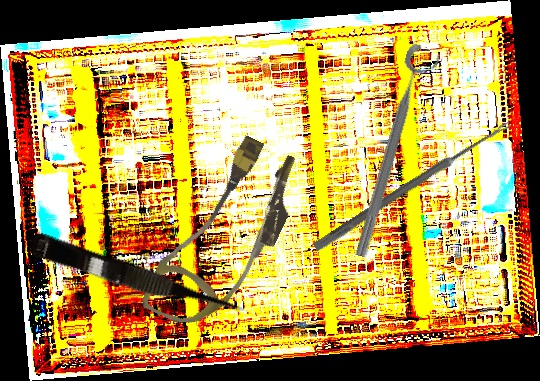Cannula: (139, 124, 312, 347)
Fixation Ring: (349, 42, 444, 263)
Micro Scissor: (23, 230, 253, 330)
Surgical Spoon: (312, 117, 513, 254)
